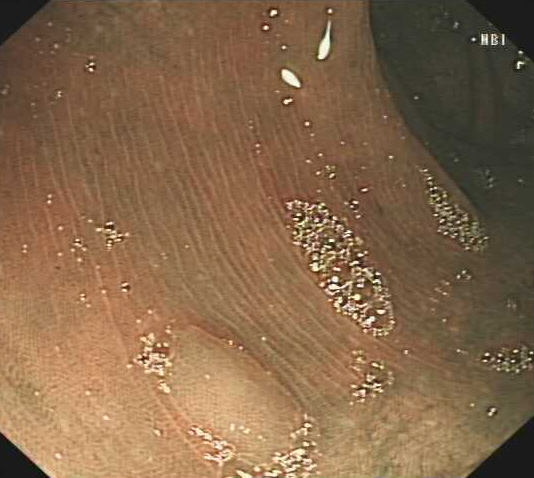others: (159, 323, 306, 465)
